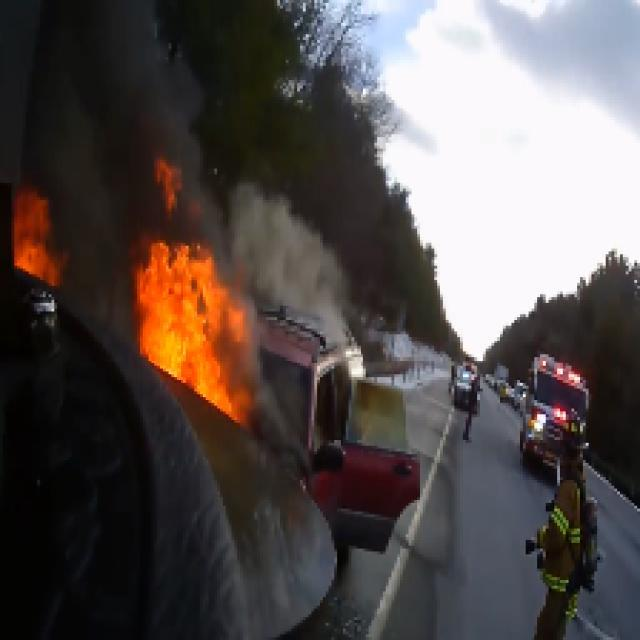Fire: (102, 148, 272, 432), (14, 131, 86, 303)
Smoke: (0, 12, 323, 232), (208, 128, 441, 428)
